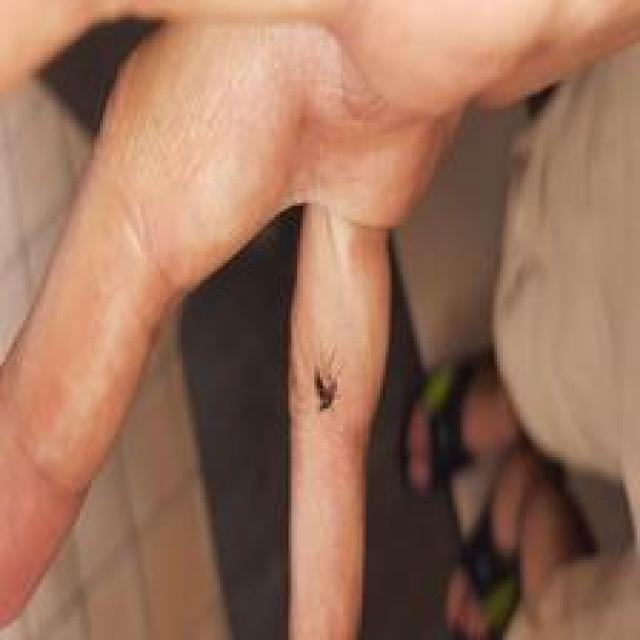Aedes albopictus: (402, 345, 597, 640)
